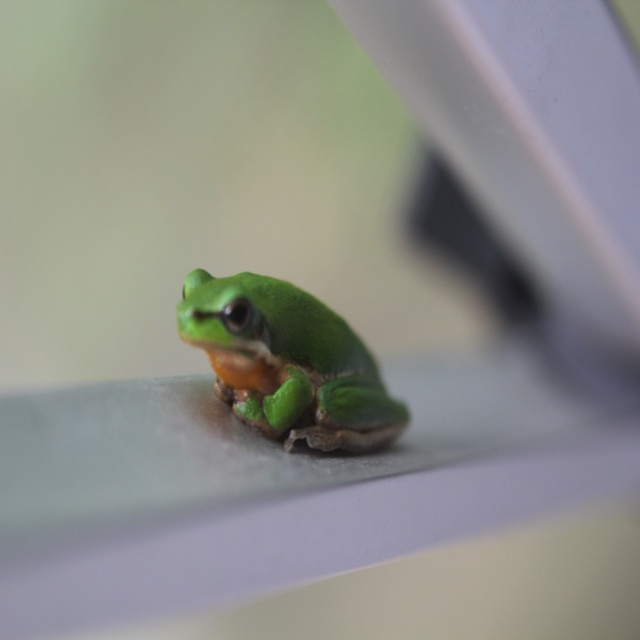Frog: (174, 264, 409, 450)
